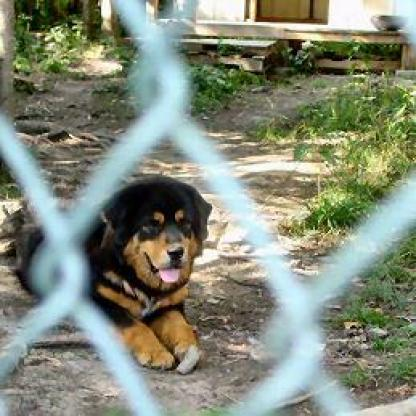Tibetan_mastiff: (0, 172, 214, 377)
